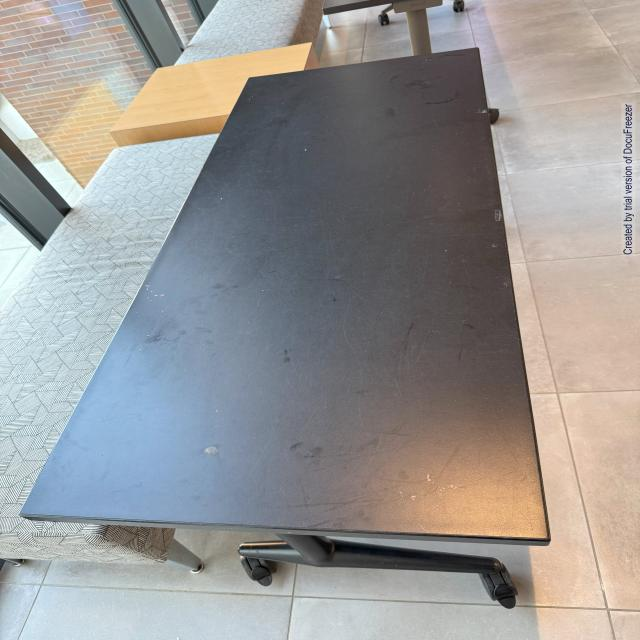Table: (29, 46, 562, 620)
